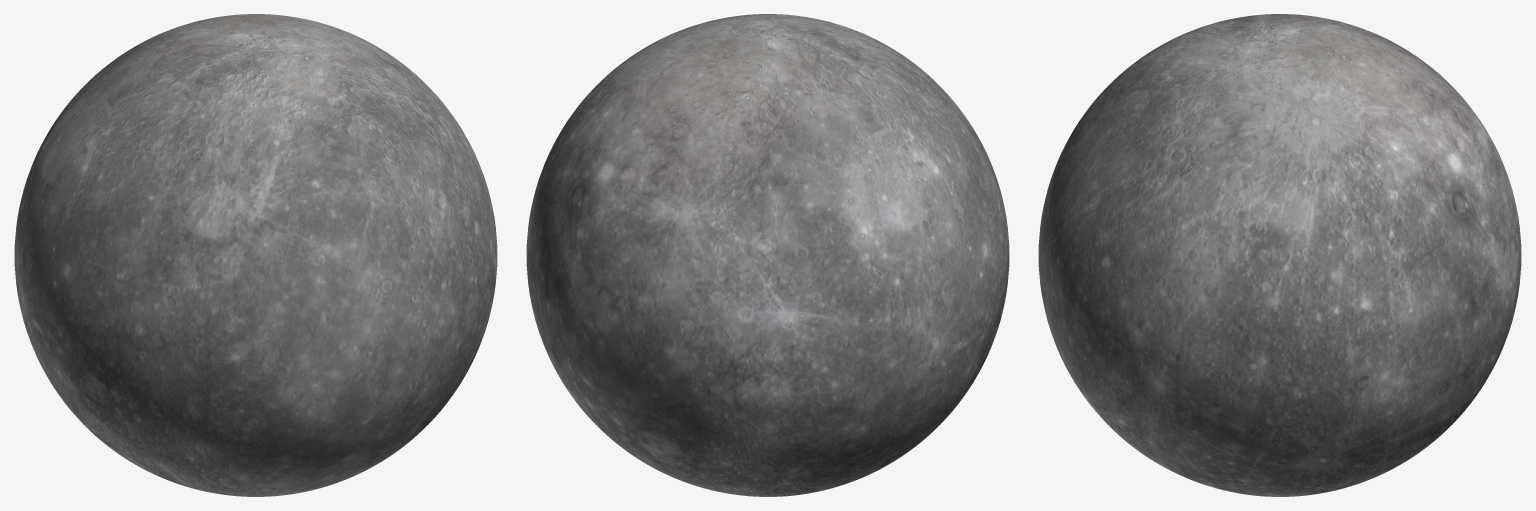
The model's file is Mercury.glb.
3 renders of one model, left to right at view 1: azimuth 30°, elevation 25°; view 2: azimuth 150°, elevation 25°; view 3: azimuth 270°, elevation 25°, orthographic.
Parts seen in each view (by area): view 1: Mercury; view 2: Mercury; view 3: Mercury.
Part boxes in pixels (x1,y1,x2,y2): Mercury: [14, 14, 497, 496]; Mercury: [526, 14, 1009, 496]; Mercury: [1038, 14, 1521, 496].
Size of the model in its own units: 2 by 2 by 2.
Materials: 1 (1 with a texture image).
